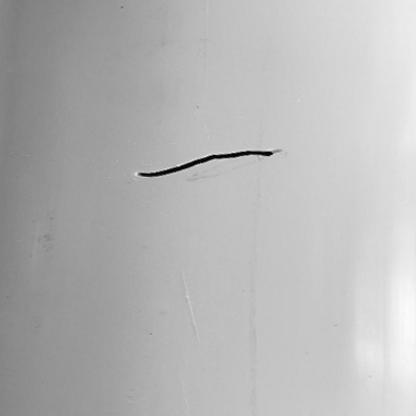fengxi: (134, 147, 283, 178)
